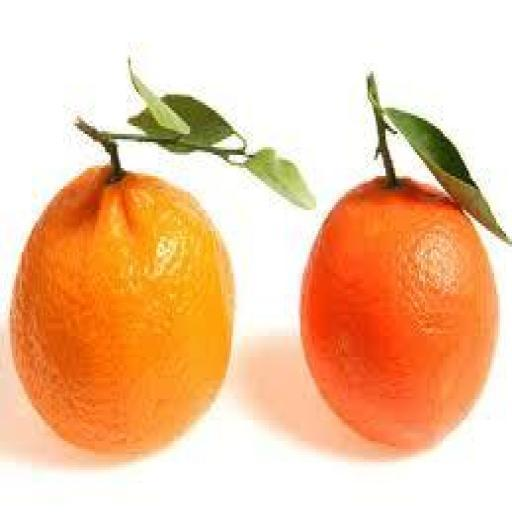orange: (10, 169, 233, 454), (301, 179, 498, 448)
